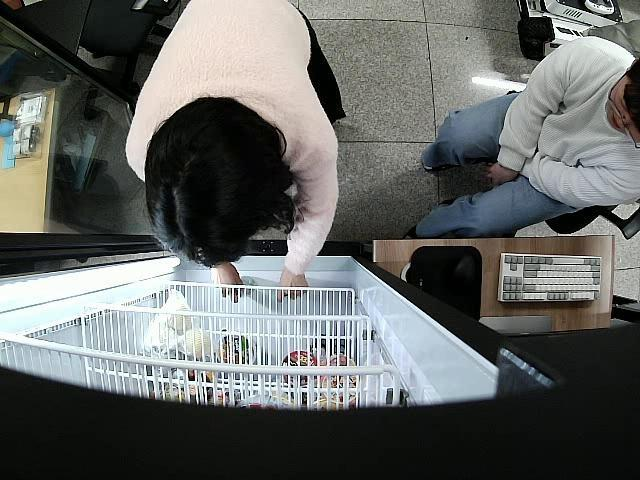18_trevi: (220, 274, 256, 301)
